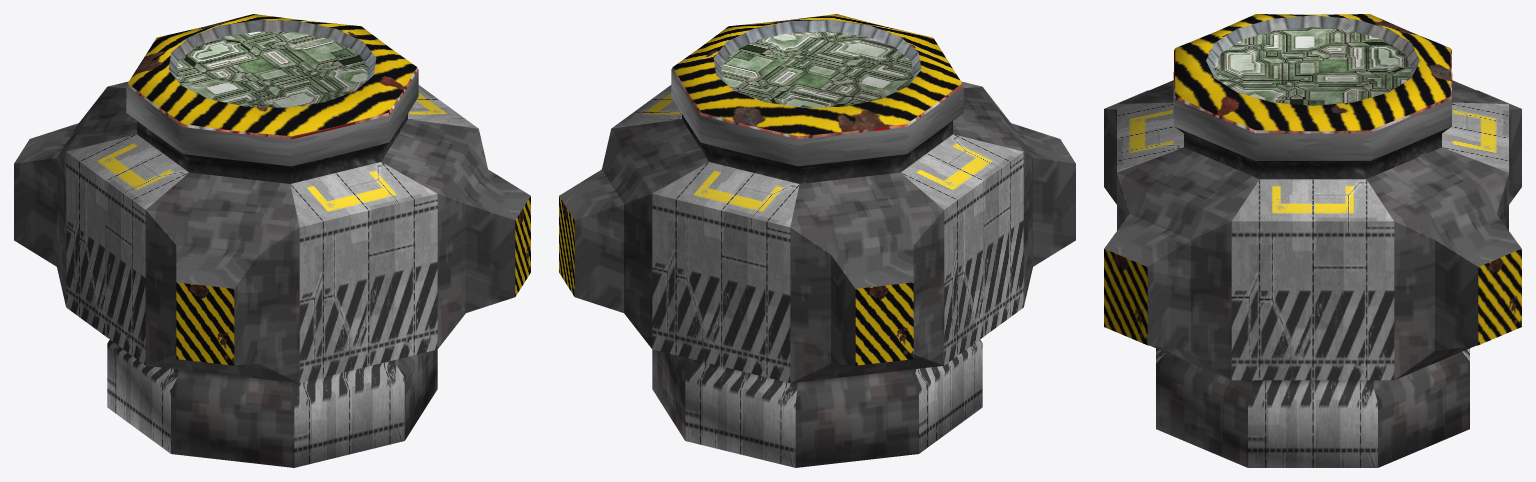
Rendered from mountSmall.obj.
3 views of the same model, side by side, from view 1: azimuth 30°, elevation 25°; view 2: azimuth 150°, elevation 25°; view 3: azimuth 270°, elevation 25° (orthographic). The views are drawn at different scales.
Parts seen in each view (by area): view 1: mountS_Cylinder.001; view 2: mountS_Cylinder.001; view 3: mountS_Cylinder.001.
Part boxes in pixels (box(x1,y1,x2,y2)): mountS_Cylinder.001: box(14, 14, 530, 467); mountS_Cylinder.001: box(559, 14, 1075, 467); mountS_Cylinder.001: box(1104, 14, 1521, 467).
Size of the model in its own units: 0.8136 by 0.7857 by 0.8136.
1 material, 1 textured.
